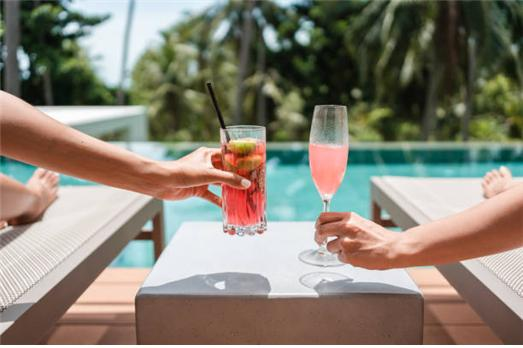alcohol: (303, 104, 348, 265), (219, 126, 268, 237)
